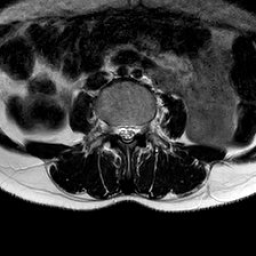CCS_normal: (122, 114, 130, 148)
LFS_normal: (138, 114, 147, 141)
LLS_normal: (130, 115, 138, 144)
RFS_normal: (106, 114, 114, 141)
RLS_normal: (114, 113, 122, 144)
